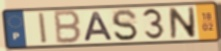3: (142, 7, 167, 42)
A: (82, 11, 115, 42)
B: (54, 10, 83, 45)
I: (37, 12, 49, 45)
N: (167, 6, 197, 40)
S: (110, 8, 140, 42)
